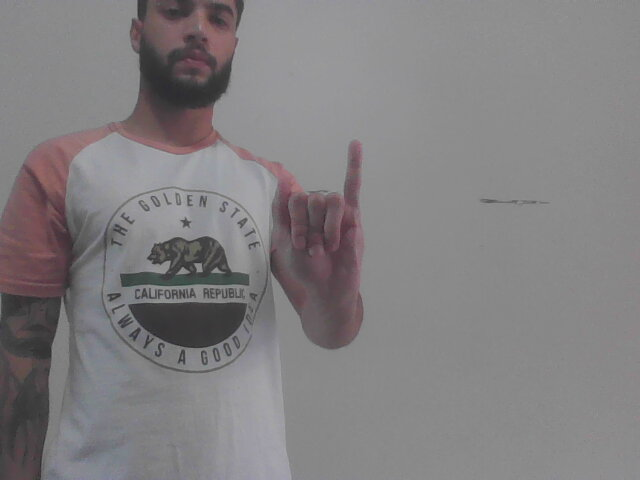i: (269, 137, 375, 313)
